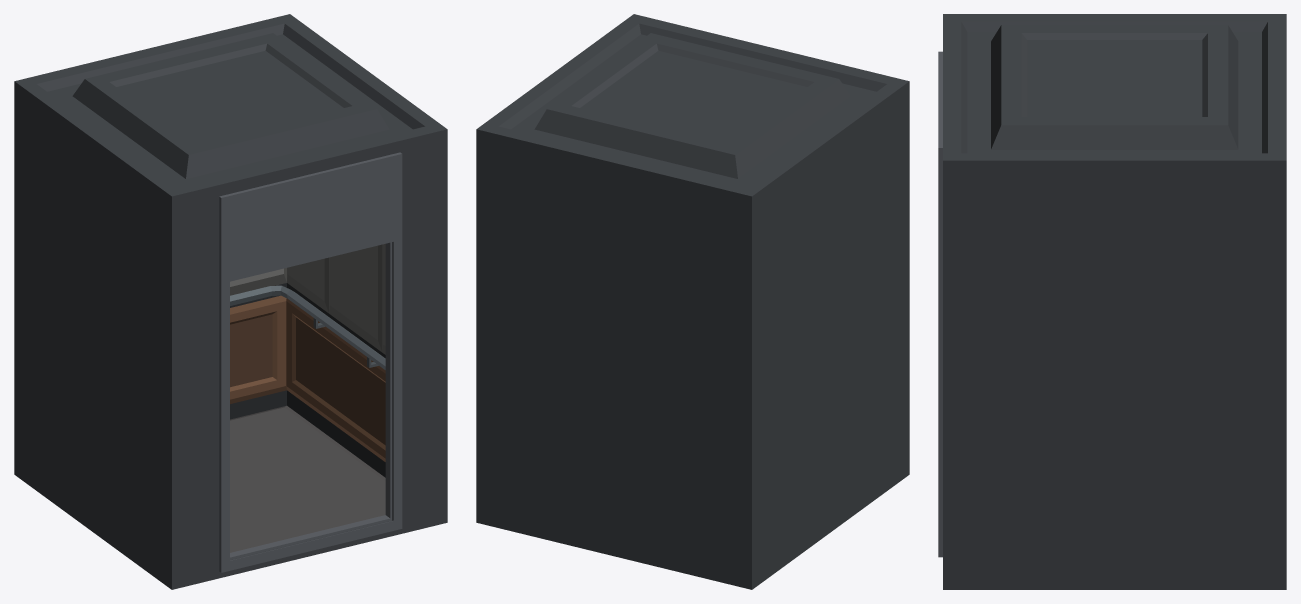
File: SM_Bld_Wall_Elevator_Insert_01.fbx
The picture shows the model from 3 angles, left to right: view 1: azimuth 30°, elevation 25°; view 2: azimuth 150°, elevation 25°; view 3: azimuth 270°, elevation 25°; orthographic projection. The views are drawn at different scales.
Visible parts, largest first — view 1: SM_Bld_Wall_Elevator_Insert_01; view 2: SM_Bld_Wall_Elevator_Insert_01; view 3: SM_Bld_Wall_Elevator_Insert_01.
Part boxes in pixels (x1,y1,x2,y2): SM_Bld_Wall_Elevator_Insert_01: (14,14,447,589); SM_Bld_Wall_Elevator_Insert_01: (476,14,909,589); SM_Bld_Wall_Elevator_Insert_01: (938,14,1286,589).
Bounding box in the file's own units: 231 × 324 × 231.
Materials: 1 (1 with a texture image).
